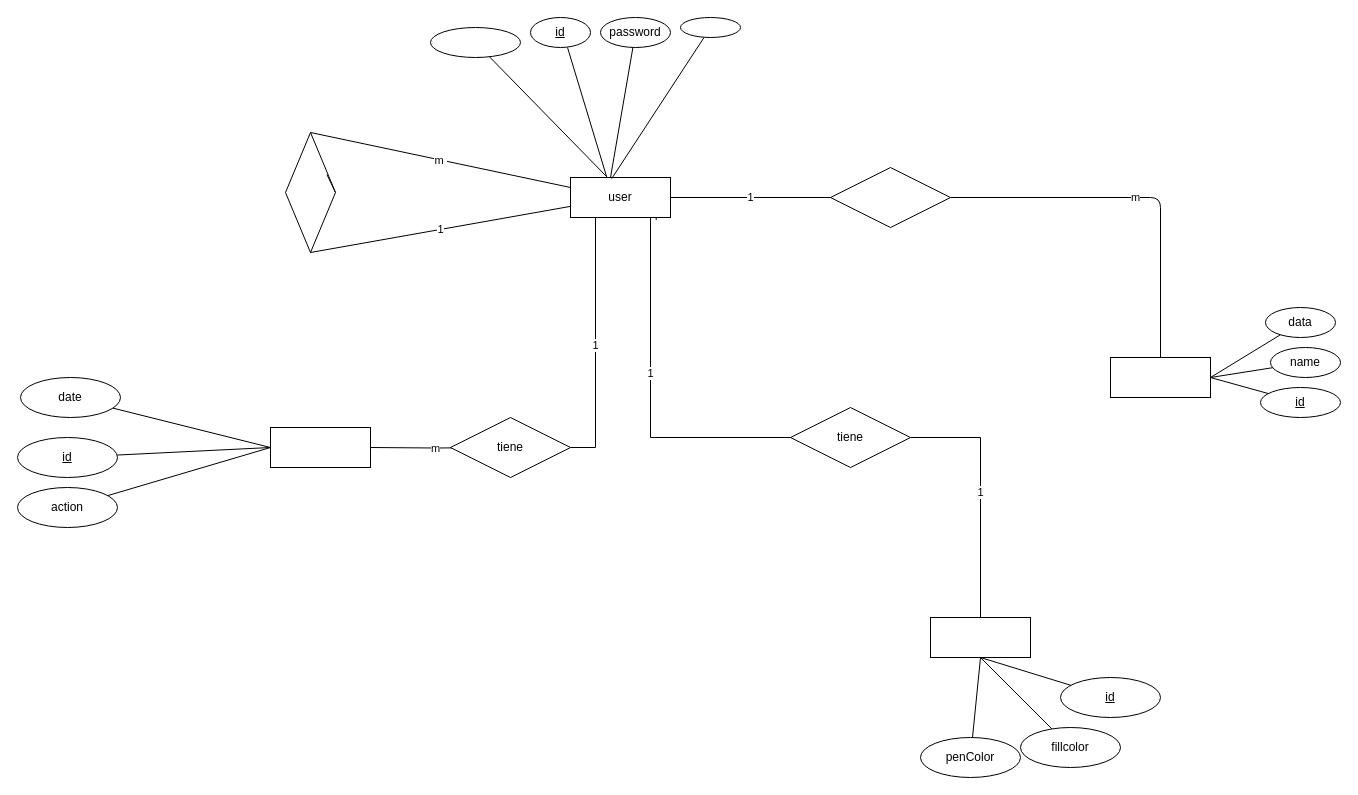
Image size: 1358x795. Some labels were removed from this diagram. Here are the shapes that lost their labels. From the top down, the centre of each, then its label:
At point 475,42: "userName".
At point 710,27: "type".
At point 310,192: "gestiona".
At point 890,197: "crea".
At point 1160,377: "Paint".
At point 320,447: "binnacle".
At point 980,637: "Color".
